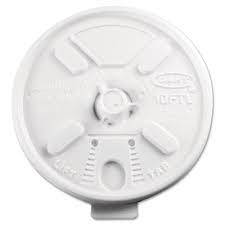Liquid: (1, 7, 225, 225)
